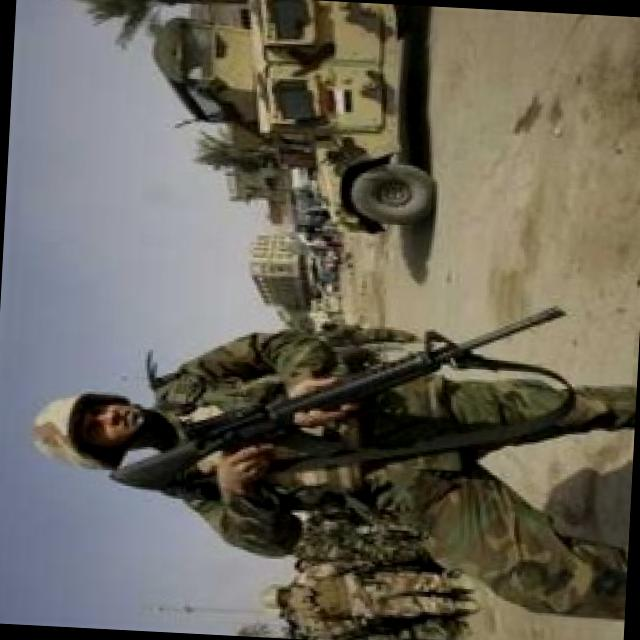long weapon: (114, 270, 578, 518)
